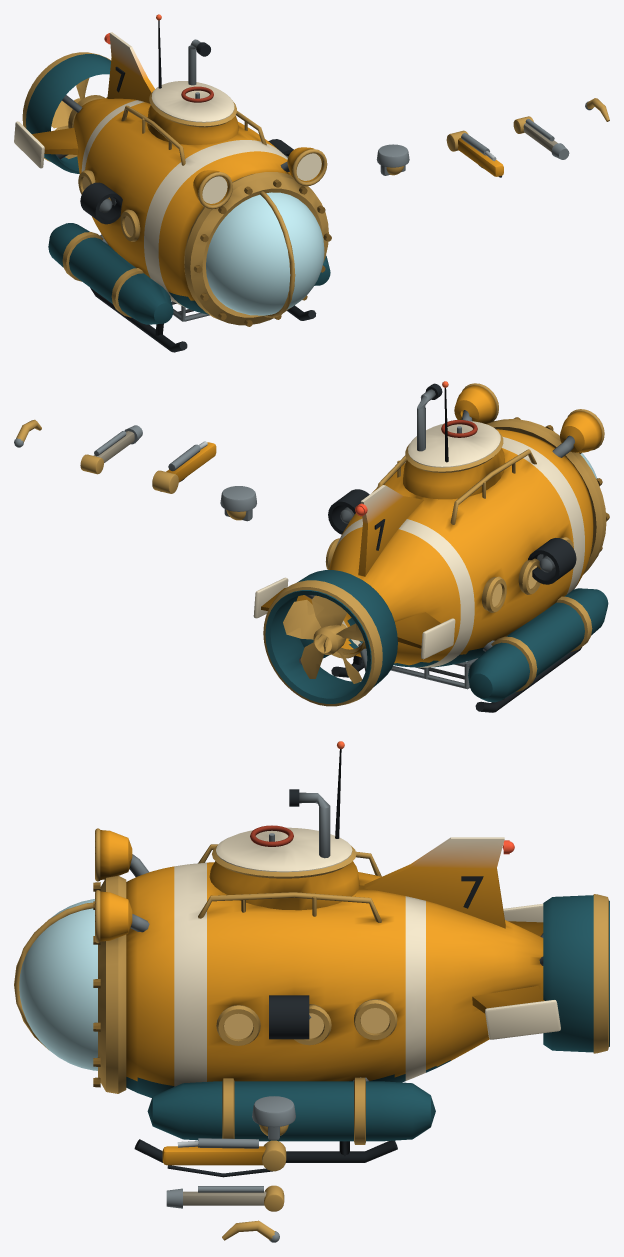
3 renders of one model, top to bottom at view 1: azimuth 30°, elevation 25°; view 2: azimuth 150°, elevation 25°; view 3: azimuth 270°, elevation 25°, orthographic. The views are drawn at different scales.
Visible parts, largest first — view 1: body, dome, upper, lower, turret, prop; view 2: body, prop, upper, lower, turret; view 3: body, dome, upper, lower, turret.
Part boxes in pixels (x1,y1,x2,y2): body: [14, 14, 331, 352]; dome: [206, 192, 324, 315]; upper: [446, 130, 503, 177]; lower: [513, 116, 569, 159]; turret: [376, 144, 409, 175]; prop: [51, 78, 107, 158]; body: [253, 381, 609, 712]; prop: [283, 595, 364, 683]; upper: [152, 441, 216, 493]; lower: [80, 425, 142, 474]; turret: [220, 486, 256, 521]; body: [14, 741, 609, 1162]; dome: [19, 899, 97, 1070]; upper: [162, 1138, 286, 1177]; lower: [166, 1185, 284, 1211]; turret: [252, 1096, 295, 1140].
Size of the model in its own units: 7.64 by 4.04 by 5.89.
